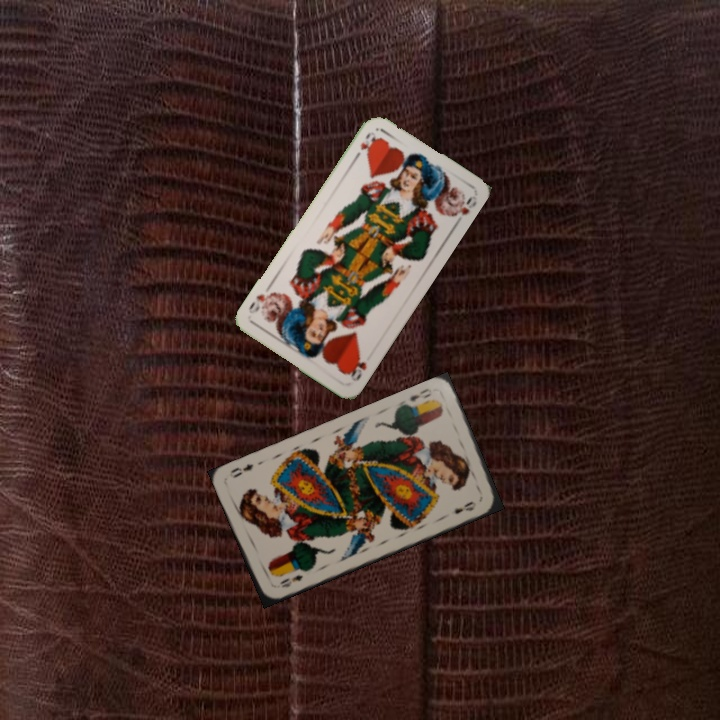EO: (275, 571, 305, 590), (406, 384, 434, 404)
HO: (350, 127, 378, 162), (344, 353, 369, 384)
